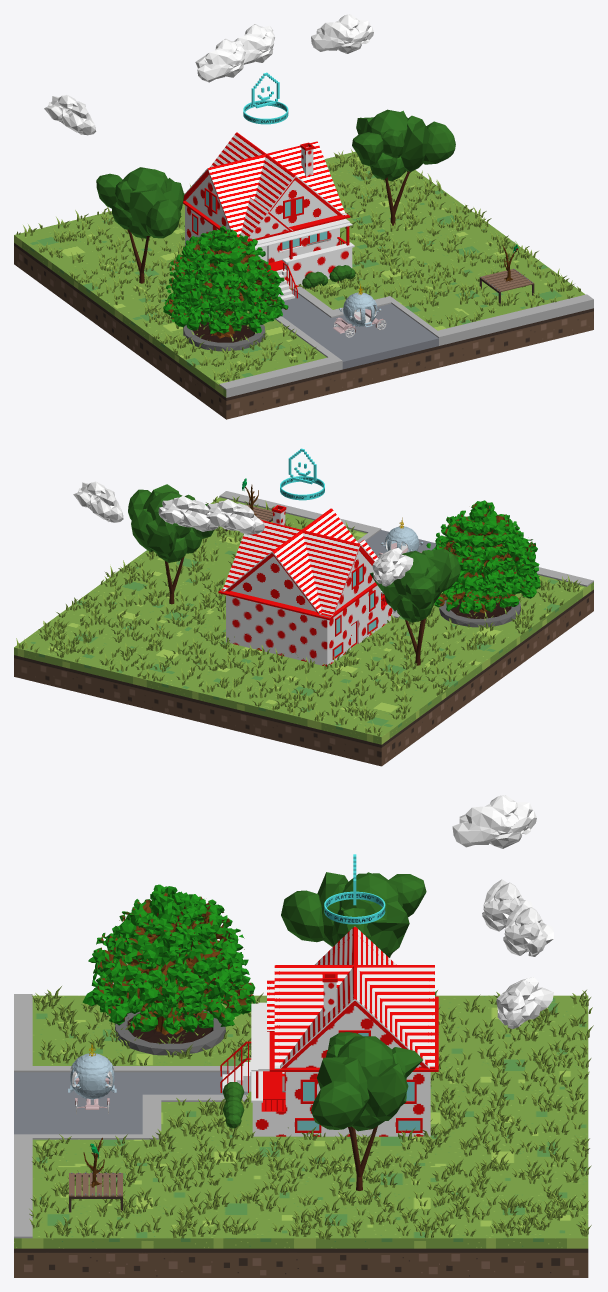
3 renders of one model, top to bottom at view 1: azimuth 30°, elevation 25°; view 2: azimuth 150°, elevation 25°; view 3: azimuth 270°, elevation 25°, orthographic. The views are drawn at different scales.
Visible parts, largest first — view 1: Cube.006, Cube.196, Circle.012_Grass_0.192, OBJRANDOM_CEIBA, Cube.007, tree, tree.001, VEHICLES_FANTASY_CARRIAGE, TYPE_PREMIUM, Cube.009; view 2: Cube.006, Cube.196, Circle.012_Grass_0.192, OBJRANDOM_CEIBA, Cube.007, tree.001, tree, TYPE_PREMIUM, VEHICLES_FANTASY_CARRIAGE; view 3: Cube.006, Circle.012_Grass_0.192, Cube.196, OBJRANDOM_CEIBA, tree, Cube.007, tree.001, VEHICLES_FANTASY_CARRIAGE, Cube.009, TYPE_PREMIUM.
Part boxes in pixels (x1,y1,x2,y2): Cube.006: [14, 151, 593, 419]; Cube.196: [183, 132, 354, 300]; Circle.012_Grass_0.192: [16, 149, 580, 381]; OBJRANDOM_CEIBA: [163, 225, 288, 351]; Cube.007: [44, 14, 373, 135]; tree: [352, 109, 455, 225]; tree.001: [96, 167, 184, 283]; VEHICLES_FANTASY_CARRIAGE: [333, 284, 386, 337]; TYPE_PREMIUM: [243, 72, 288, 124]; Cube.009: [479, 268, 534, 303]; Cube.006: [14, 491, 593, 766]; Cube.196: [218, 505, 393, 666]; Circle.012_Grass_0.192: [16, 496, 580, 736]; OBJRANDOM_CEIBA: [426, 500, 540, 627]; Cube.007: [73, 481, 413, 586]; tree.001: [370, 549, 460, 665]; tree: [128, 484, 214, 604]; TYPE_PREMIUM: [280, 448, 324, 500]; VEHICLES_FANTASY_CARRIAGE: [376, 517, 423, 557]; Cube.006: [14, 994, 588, 1277]; Circle.012_Grass_0.192: [29, 986, 593, 1239]; Cube.196: [220, 926, 438, 1136]; OBJRANDOM_CEIBA: [82, 884, 255, 1055]; tree: [311, 1032, 422, 1190]; Cube.007: [452, 795, 553, 1029]; tree.001: [281, 872, 426, 957]; VEHICLES_FANTASY_CARRIAGE: [68, 1043, 116, 1114]; Cube.009: [69, 1172, 122, 1212]; TYPE_PREMIUM: [324, 854, 385, 924].
Bounding box in the file's own units: 4071 × 2251 × 4040.
Materials: 32 (6 with a texture image).
